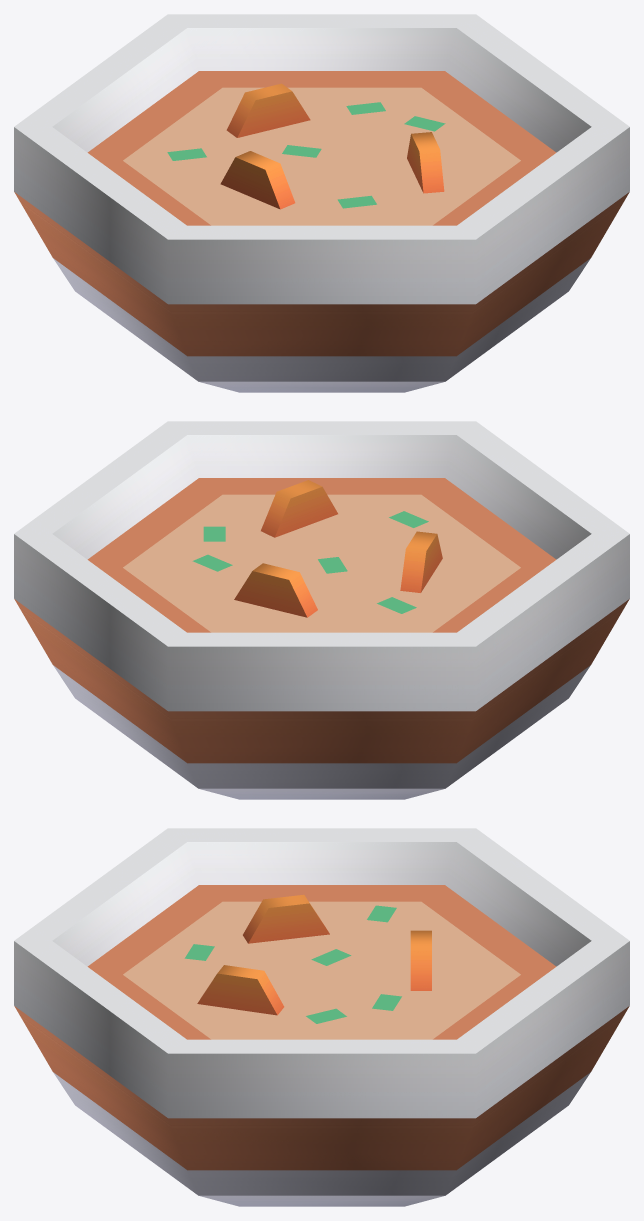
Rendered from bowl-soup.glb.
3 views of the same model, one above another, from view 1: azimuth 30°, elevation 25°; view 2: azimuth 150°, elevation 25°; view 3: azimuth 270°, elevation 25° (orthographic).
Parts seen in each view (by area): view 1: bowl-soup; view 2: bowl-soup; view 3: bowl-soup.
Part boxes in pixels (box(x1,y1,x2,y2)): bowl-soup: box(14, 14, 629, 392); bowl-soup: box(14, 421, 629, 799); bowl-soup: box(14, 828, 629, 1206).
Bounding box in the file's own units: 0.5021 × 0.2138 × 0.5798.
1 material, 1 textured.
